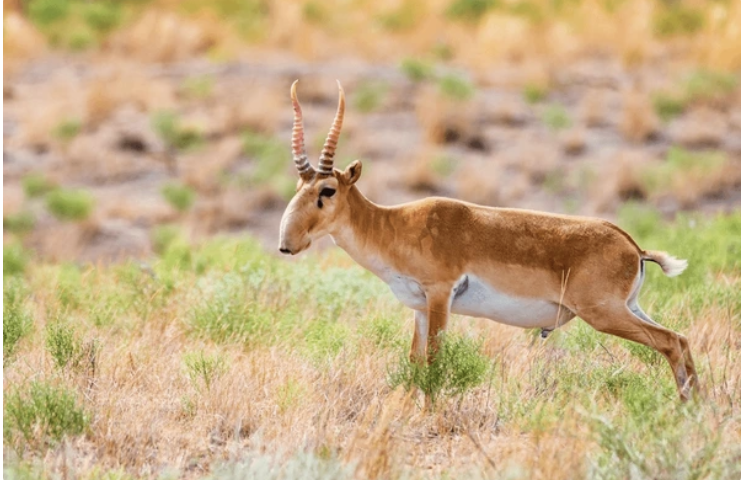saiga: (268, 71, 706, 401)
